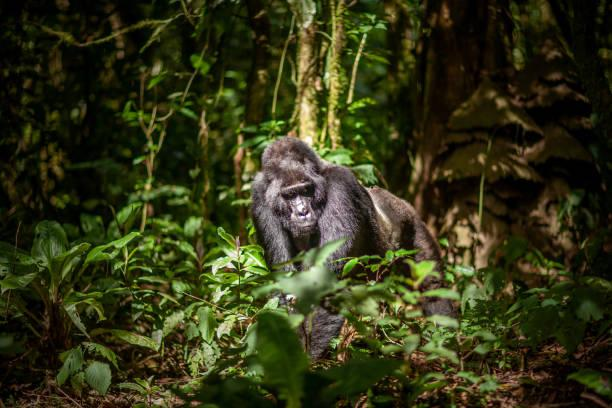goriile_montagne: (240, 117, 462, 358)
